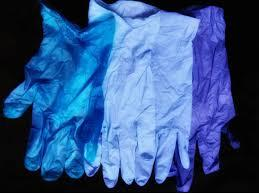Glove: (92, 0, 198, 186), (4, 3, 114, 180), (171, 6, 234, 191), (151, 11, 198, 182)
